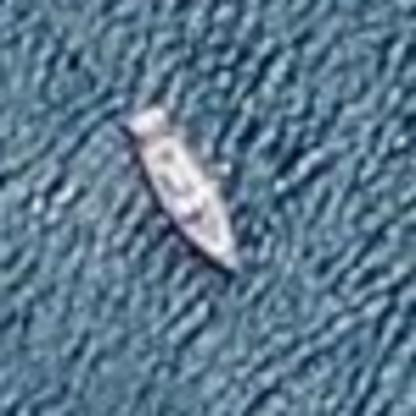ship: (113, 101, 275, 283)
